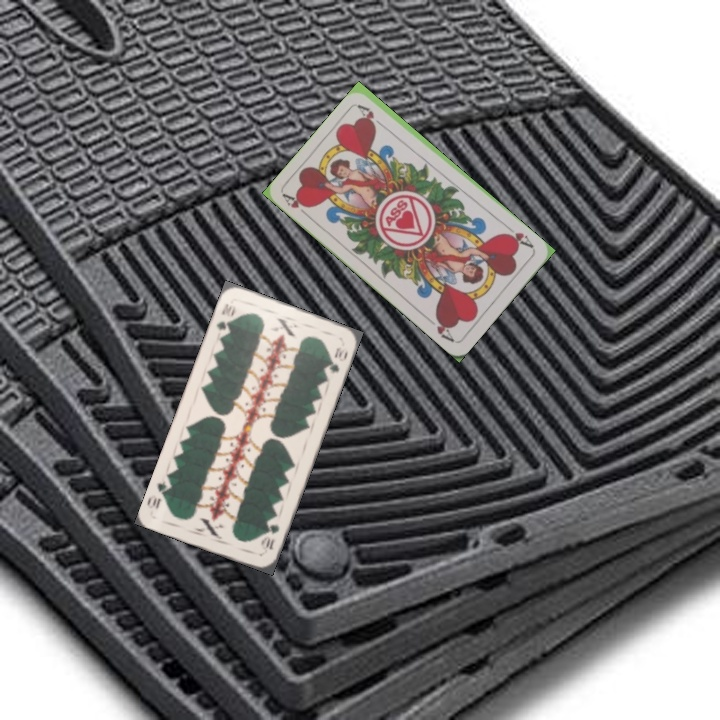G10: (212, 299, 238, 339), (260, 520, 282, 556)
HA: (279, 190, 313, 221), (500, 222, 536, 251)
